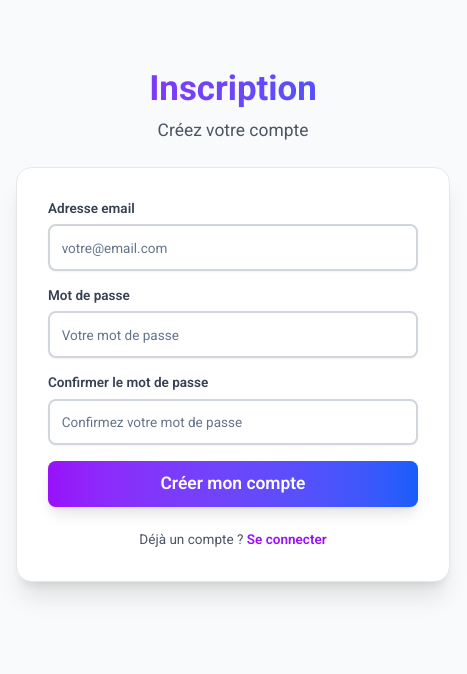
inscription page › maps weak-password error to specific serverError
Type "foo@bar.com" into the field labelled "Adresse email".
click(233, 248); type("foo@bar.com")  # box [48,224,418,271]
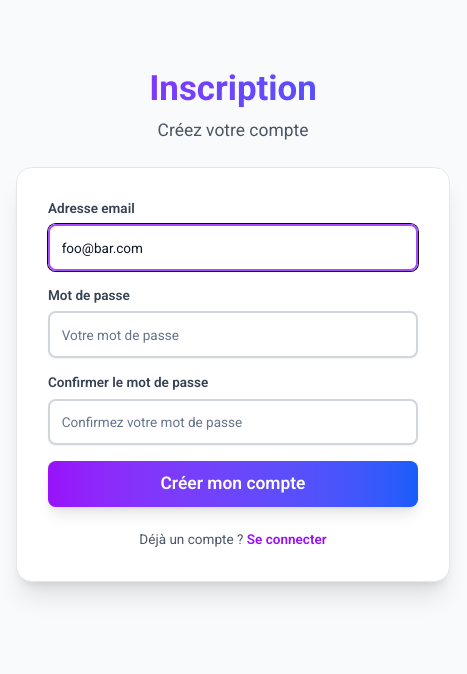
Type "goodpass1" into the password field labelled "Mot de passe".
click(233, 335); type("goodpass1")  # box [48,312,418,358]
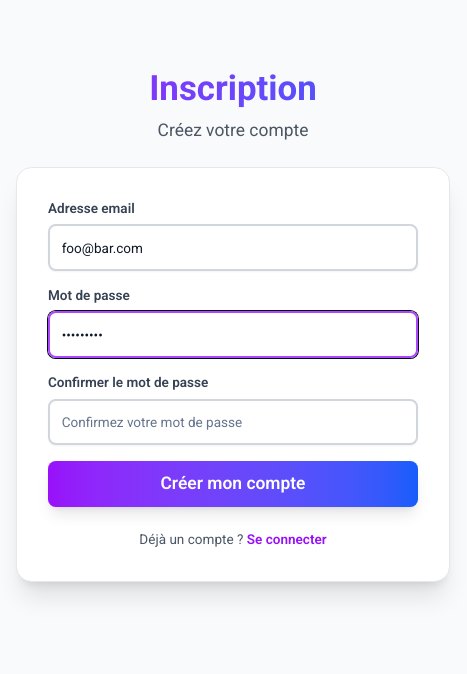
Type "goodpass1" into the password field labelled "Confirmer le mot de passe".
click(233, 422); type("goodpass1")  # box [48,399,418,445]
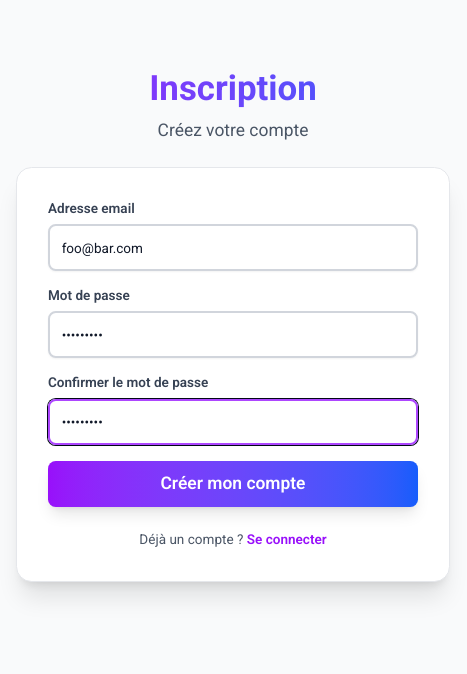
Click the button "Créer mon compte".
click(233, 484)  # box [48,461,418,507]
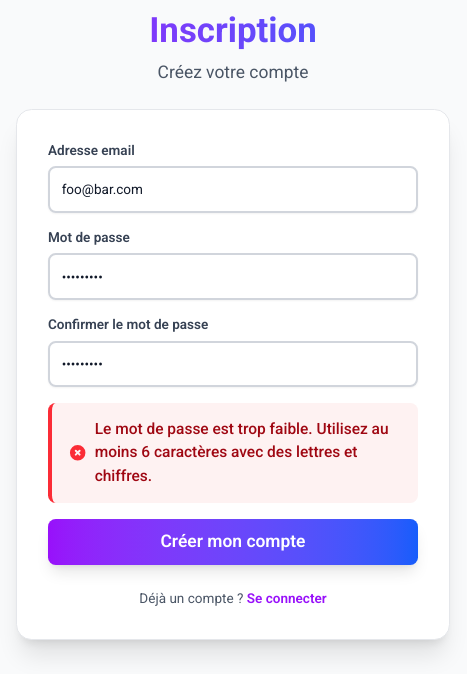
expect the text "trop faible" is shown: met, box [95,420,389,484]
